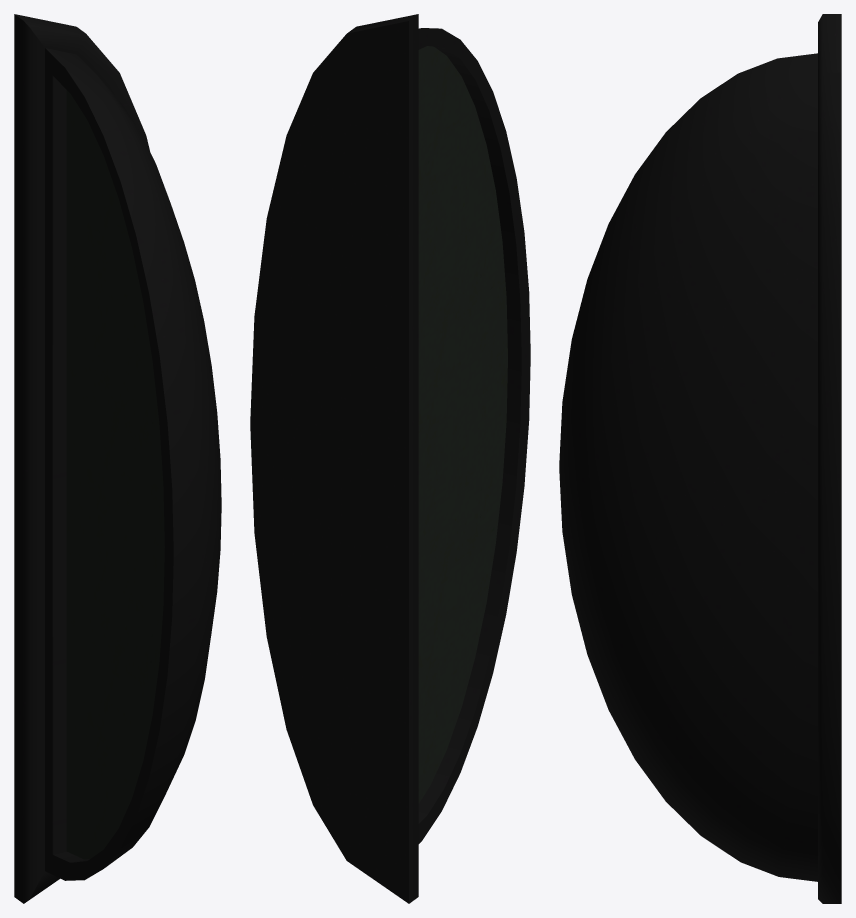
File: cP_WallLight02.dae
3 renders of one model, left to right at view 1: azimuth 30°, elevation 25°; view 2: azimuth 150°, elevation 25°; view 3: azimuth 270°, elevation 25°, orthographic.
Visible parts, largest first — view 1: cP_WallLight02.001; view 2: cP_WallLight02.001; view 3: cP_WallLight02.001.
Boxes of the visible parts, x1,y1,x2,y2 form: cP_WallLight02.001: (14, 14, 221, 903); cP_WallLight02.001: (250, 14, 530, 903); cP_WallLight02.001: (559, 14, 841, 903).
Size of the model in its own units: 0.0931 by 0.1428 by 0.4947.
